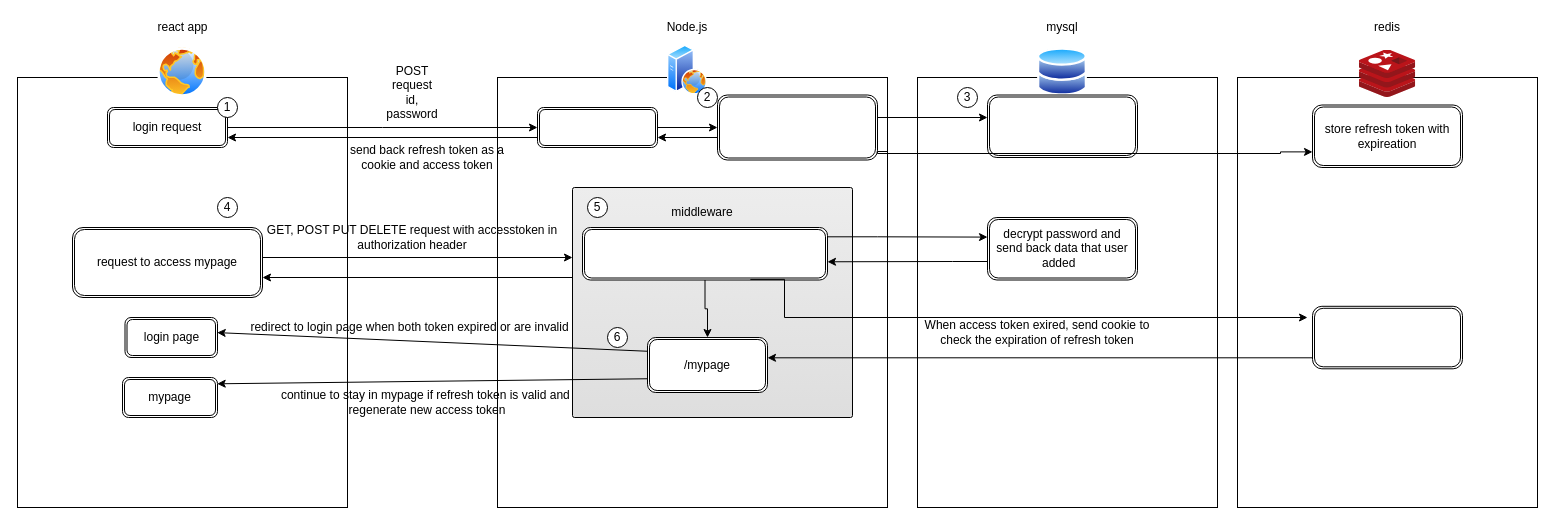
The diagram is 1555 pixels wide and 525 high, and some of its shapes have lost their labels. Each missing label, with the box of its shape:
/login: (536, 106, 658, 148)
check if the accesstoken expired check if JWT is valid or invalid: (582, 226, 828, 280)
check if the refresh token expired and it's not fake.: (1312, 305, 1462, 369)
generate an accesstoken and refresh token as JWT: (716, 94, 878, 160)
hash password as a JWT and store account info in a table: (986, 94, 1138, 158)
